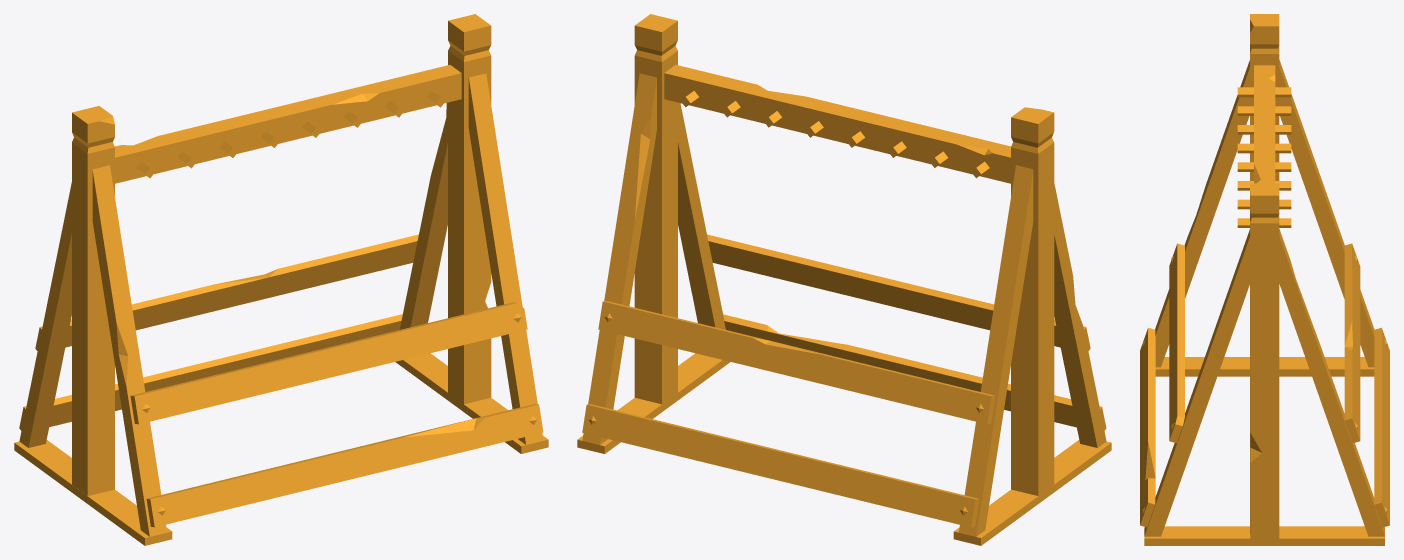
Rendered from SM_Rack_Weapon_Big.fbx.
3 views of the same model, side by side, from view 1: azimuth 30°, elevation 25°; view 2: azimuth 150°, elevation 25°; view 3: azimuth 270°, elevation 25° (orthographic). The views are drawn at different scales.
Visible parts, largest first — view 1: rack-weapon-big; view 2: rack-weapon-big; view 3: rack-weapon-big.
Part boxes in pixels (<box>): rack-weapon-big: <box>14,14,548,545</box>; rack-weapon-big: <box>577,14,1111,545</box>; rack-weapon-big: <box>1140,14,1389,545</box>.
Size of the model in its own units: 1.62 by 1.46 by 0.9417.
